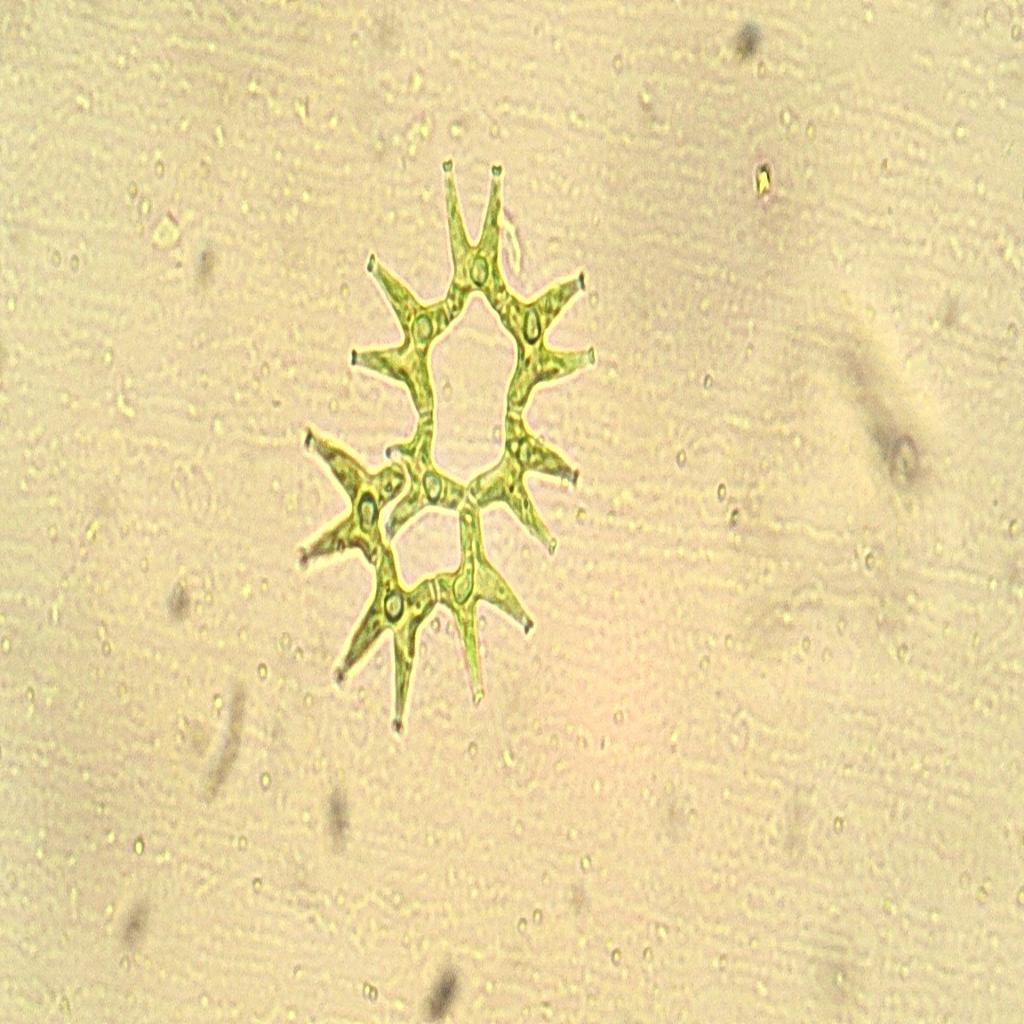Pediastrum_1TH: (285, 143, 605, 756)
